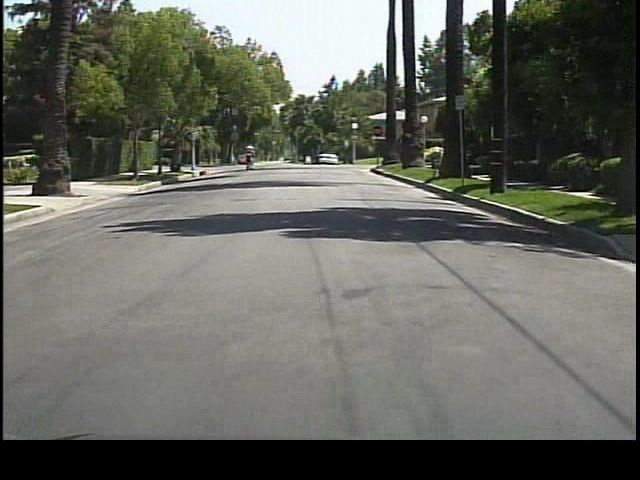person: (242, 140, 257, 171)
